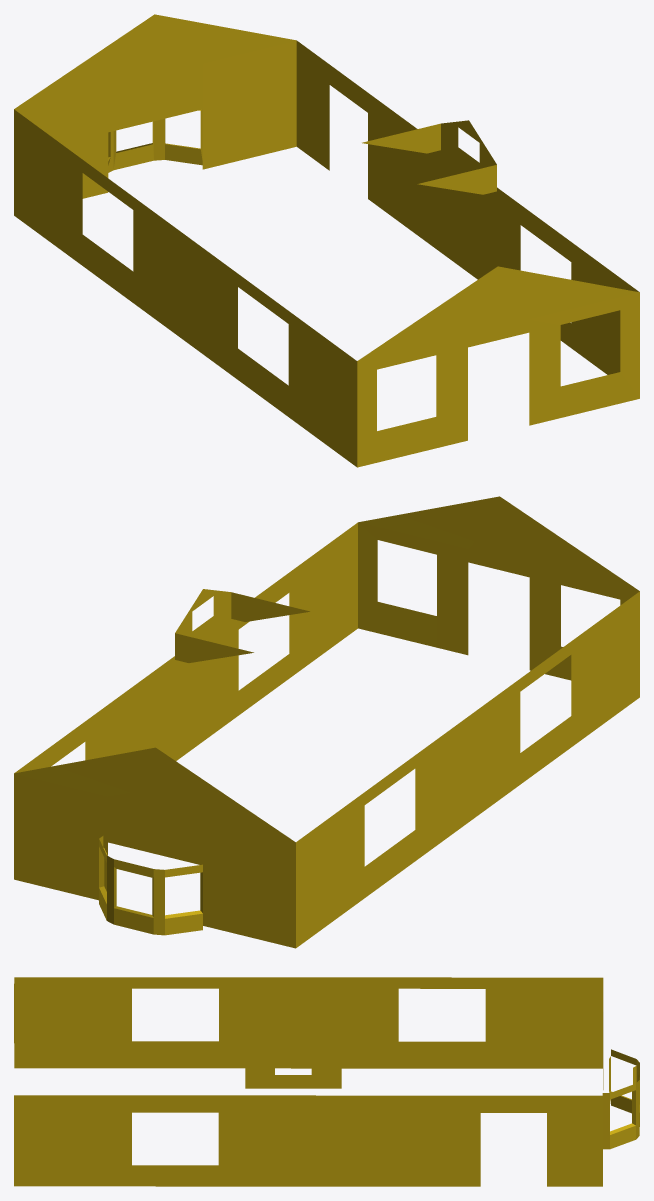
File: casa2.obj
3 renders of one model, top to bottom at view 1: azimuth 30°, elevation 25°; view 2: azimuth 150°, elevation 25°; view 3: azimuth 270°, elevation 25°, orthographic. The views are drawn at different scales.
Parts seen in each view (by area): view 1: Cube.013; view 2: Cube.013; view 3: Cube.013.
Part boxes in pixels (bbox=[...]): Cube.013: bbox=[14, 14, 639, 467]; Cube.013: bbox=[14, 496, 639, 948]; Cube.013: bbox=[14, 977, 639, 1186].
Size of the model in its own units: 10.81 by 6.09 by 24.17.
